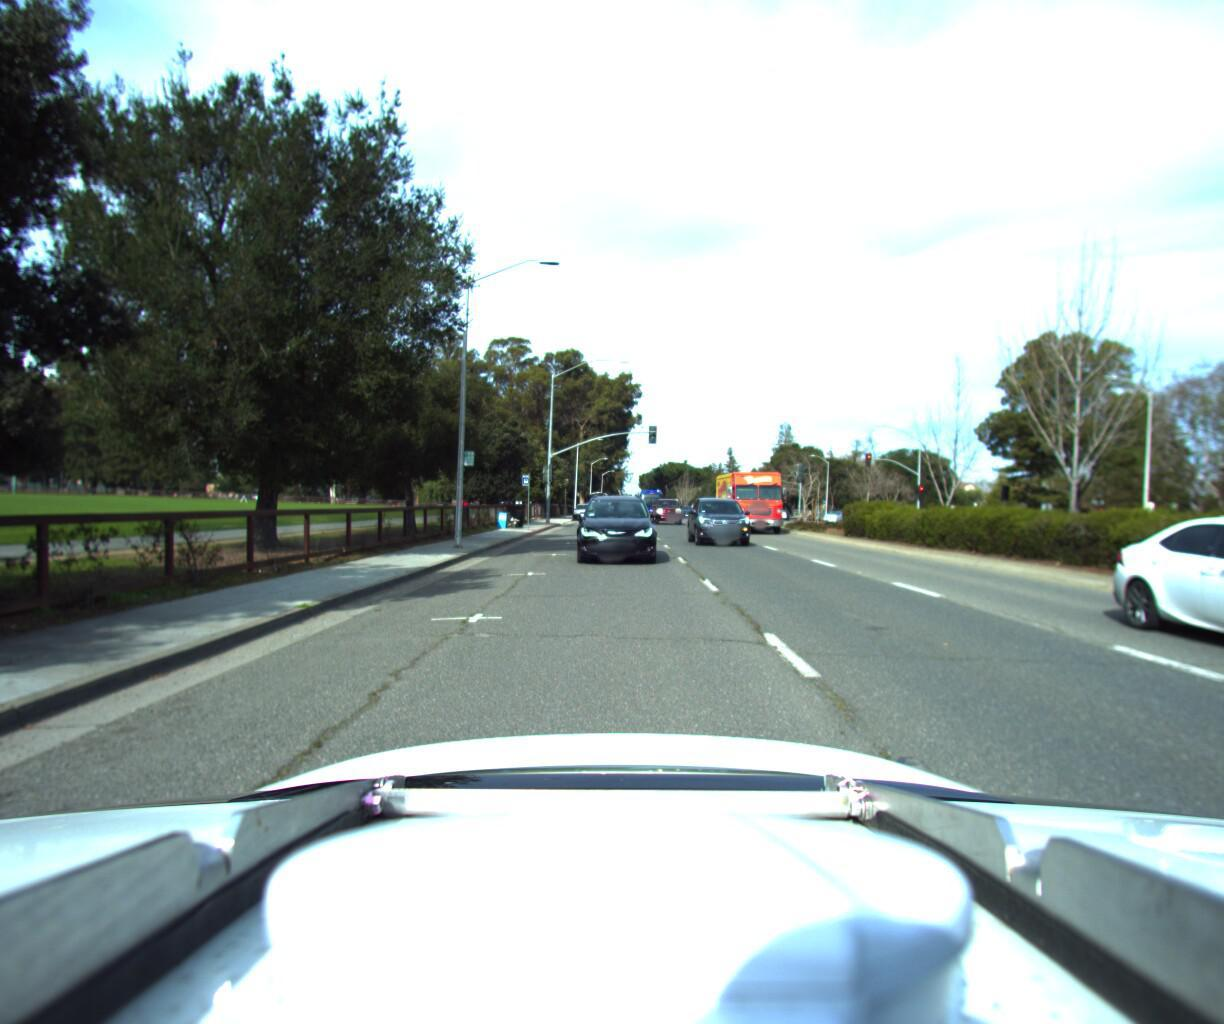car: (1162, 506, 1224, 751), (571, 480, 656, 560), (686, 489, 759, 543), (649, 489, 683, 517), (822, 502, 870, 518), (607, 486, 635, 510), (574, 495, 592, 513)
truck: (712, 461, 790, 532), (1185, 485, 1224, 560)
